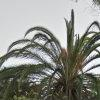Palm tree: (19, 10, 100, 94)
